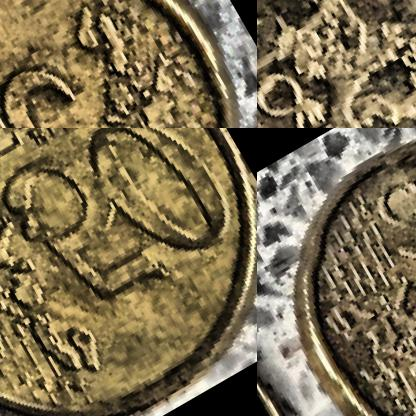coin: (0, 128, 256, 415), (257, 128, 415, 415), (0, 0, 256, 127), (257, 0, 415, 127)
